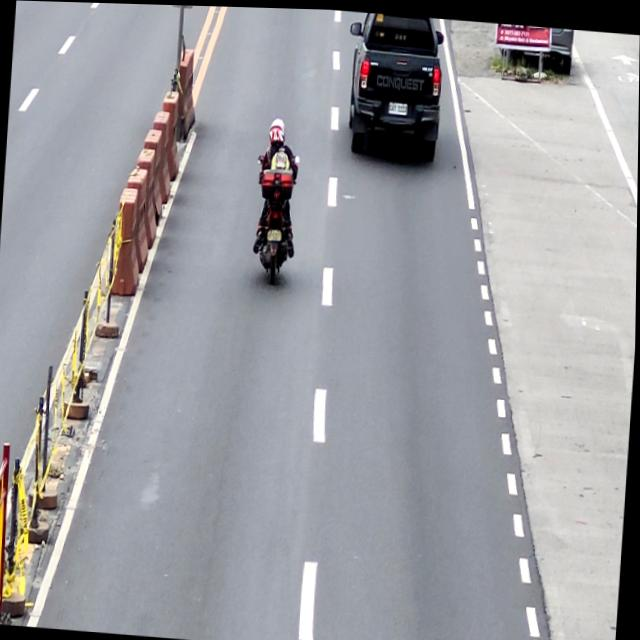Car: (343, 9, 447, 161)
License-Plate: (388, 101, 408, 114), (268, 226, 283, 242)
Motorcycle: (250, 148, 302, 283)
